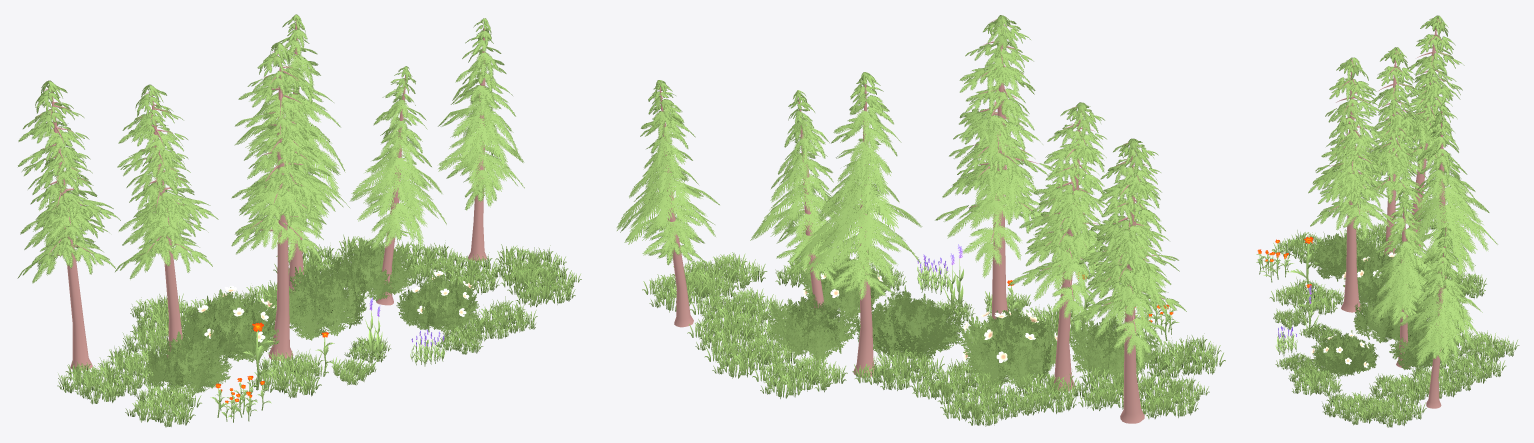
Rendered from stylized_nature_pack_vol-1__3d_tree.glb.
The picture shows the model from 3 angles, left to right: view 1: azimuth 30°, elevation 25°; view 2: azimuth 150°, elevation 25°; view 3: azimuth 270°, elevation 25°; orthographic projection. The views are drawn at different scales.
Parts seen in each view (by area): view 1: Object_2, Object_6, Object_4, Object_5, Object_3; view 2: Object_2, Object_6, Object_4, Object_5, Object_3; view 3: Object_2, Object_6, Object_4, Object_5, Object_3.
Boxes of the visible parts, x1,y1,x2,y2 form: Object_2: (57, 234, 537, 427); Object_6: (17, 14, 524, 370); Object_4: (115, 66, 446, 357); Object_5: (231, 42, 340, 360); Object_3: (273, 239, 581, 372); Object_2: (704, 244, 1225, 426); Object_6: (616, 72, 1186, 423); Object_4: (750, 90, 1108, 390); Object_5: (935, 15, 1054, 319); Object_3: (642, 252, 1019, 398); Object_2: (1256, 223, 1506, 396); Object_6: (1384, 15, 1497, 408); Object_4: (1361, 47, 1435, 368); Object_5: (1308, 57, 1397, 312); Object_3: (1282, 284, 1519, 427).
Size of the model in its own units: 41.75 by 24.64 by 23.03.
Materials: 3 (3 with a texture image).
